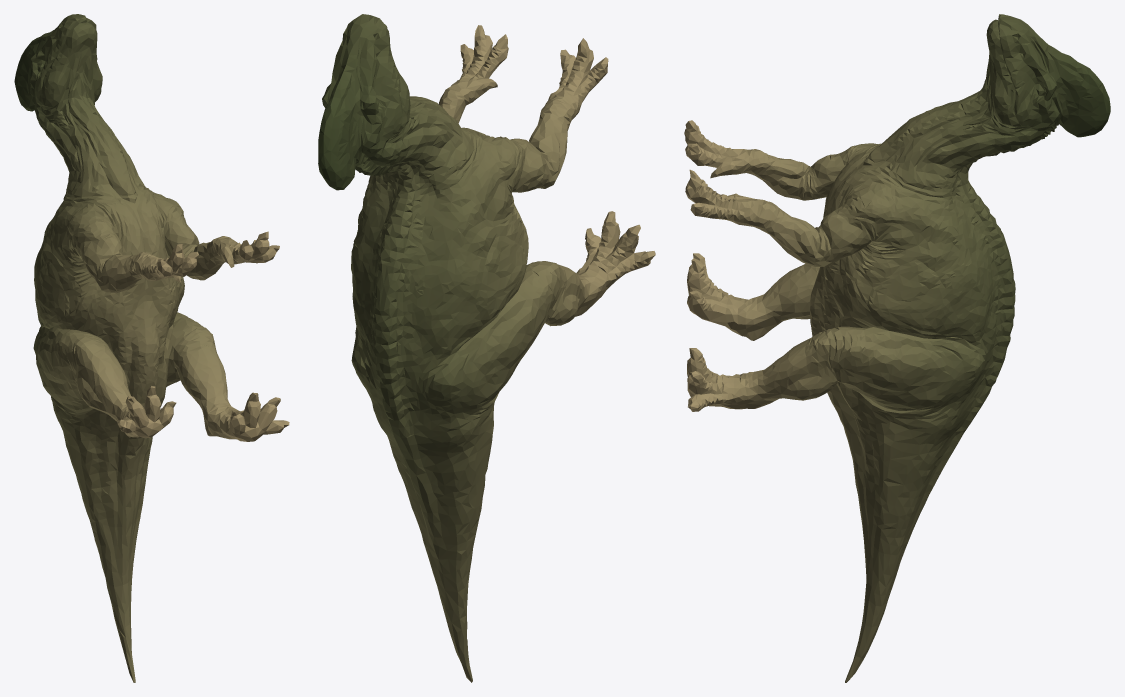
The model's file is corythosaurus.glb.
3 renders of one model, left to right at view 1: azimuth 30°, elevation 25°; view 2: azimuth 150°, elevation 25°; view 3: azimuth 270°, elevation 25°, orthographic. The views are drawn at different scales.
Parts seen in each view (by area): view 1: corythosaurus; view 2: corythosaurus; view 3: corythosaurus.
Boxes of the visible parts, x1,y1,x2,y2 form: corythosaurus: [14, 14, 289, 682]; corythosaurus: [318, 14, 655, 682]; corythosaurus: [684, 14, 1110, 682].
Bounding box in the file's own units: 60.7 × 207 × 119.
